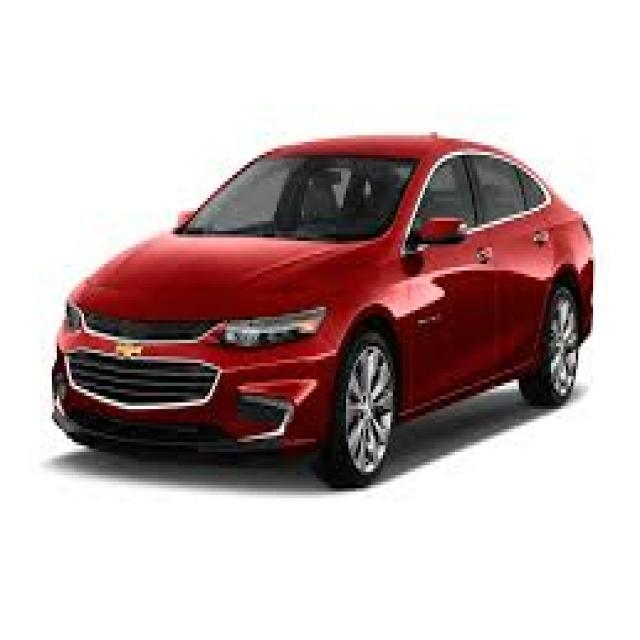Car: (37, 121, 600, 513)
